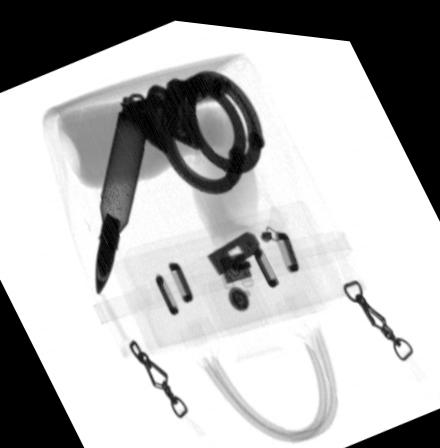Bullet: (95, 98, 152, 290)
HandCuffs: (120, 64, 266, 188)
